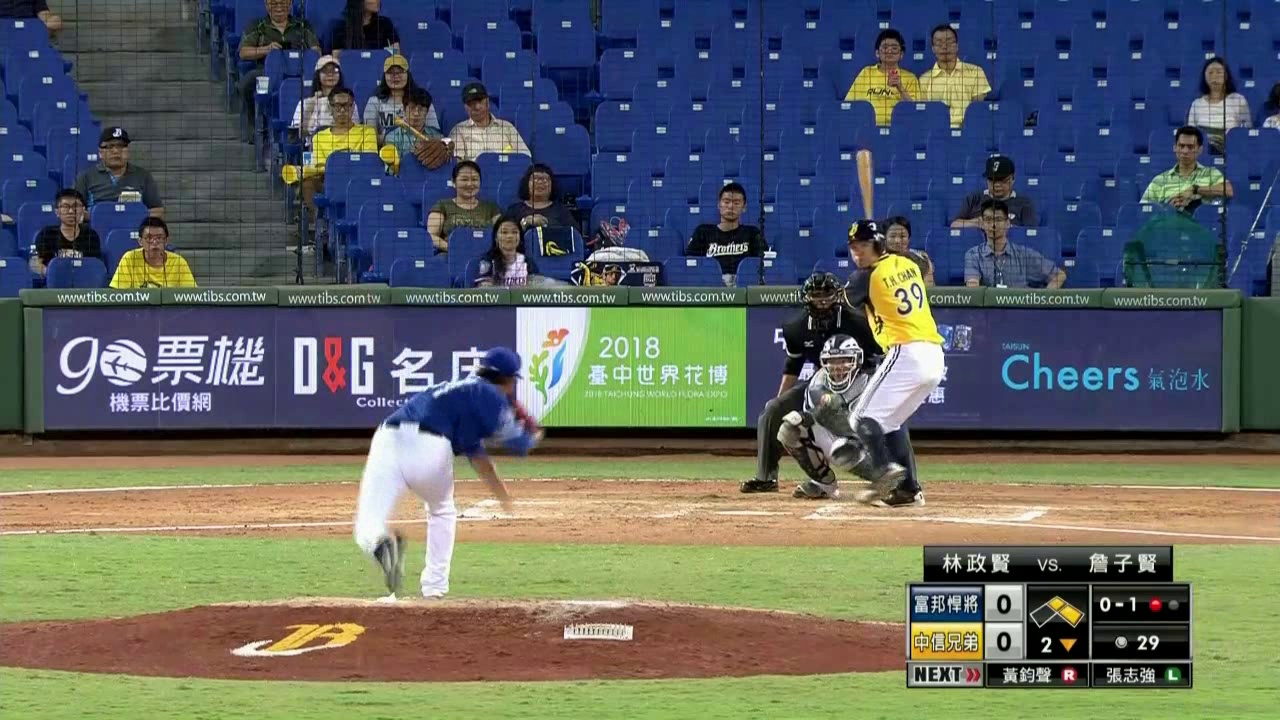ball: (540, 275, 557, 292)
base: (1026, 587, 1087, 628)
bat: (853, 148, 876, 220)
out: (1143, 586, 1185, 620)
score1: (987, 588, 1021, 619)
score2: (986, 624, 1021, 656)
session: (1027, 628, 1087, 658)
strikeball: (1092, 589, 1142, 621)
total: (1096, 631, 1183, 659)
